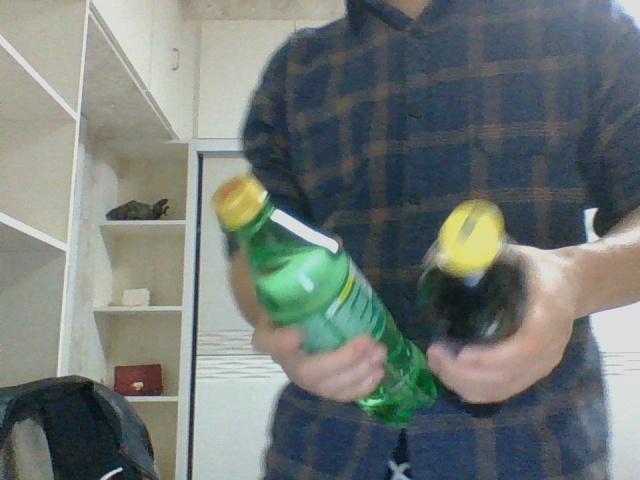Cola: (417, 199, 526, 420)
Sprite: (212, 172, 439, 427)
